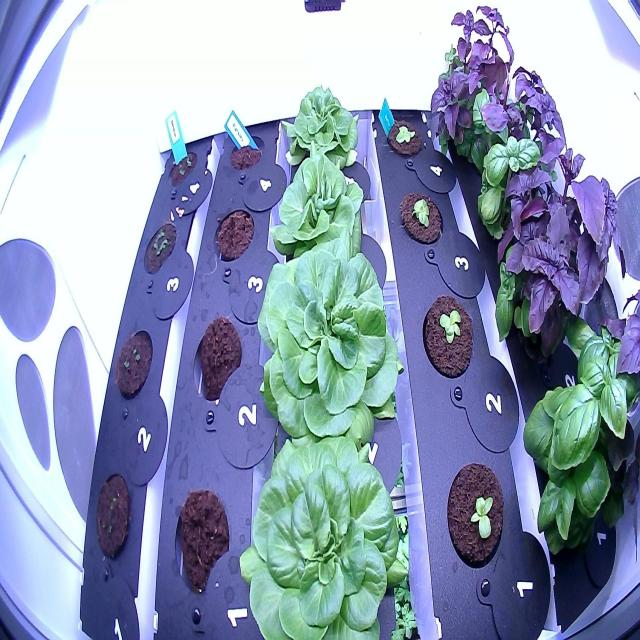germination: (90, 467, 137, 571), (112, 318, 160, 409), (138, 212, 179, 280), (164, 142, 202, 194)
pod: (165, 465, 242, 601), (186, 309, 245, 410), (210, 200, 256, 274), (224, 122, 269, 181)
young: (233, 415, 414, 639), (249, 234, 408, 456), (266, 150, 373, 268), (277, 74, 365, 178), (439, 454, 508, 574), (418, 281, 477, 381), (397, 182, 449, 251), (383, 109, 429, 164)
